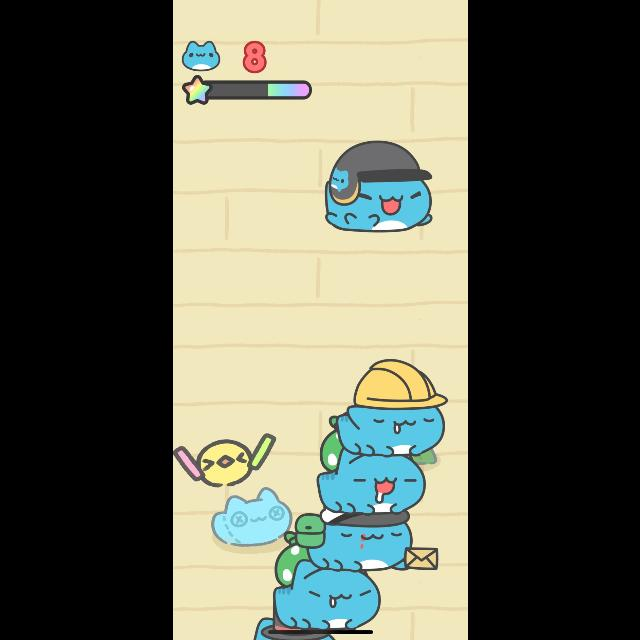capoo: (335, 359, 447, 456), (324, 140, 438, 234), (298, 511, 444, 571), (316, 453, 428, 513), (276, 568, 386, 626)
